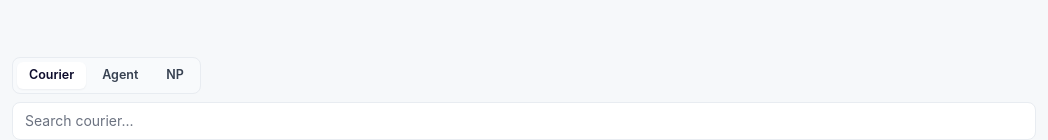
Test: AssignTargetPicker › filters options as the user types in the search input
(page scrolled)
Type "Beta" into the field with placeholder "Search courier...".
click(524, 121); type("Beta")  # box [12, 102, 1036, 139]
(page scrolled)
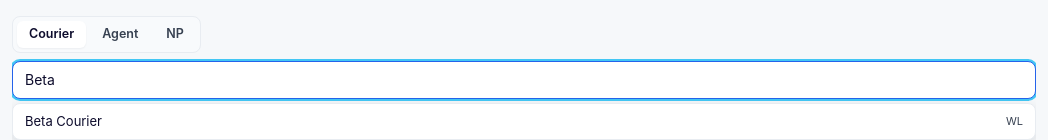
Expected: the button "Beta Courier WL" is shown, [13, 104, 1035, 139]
